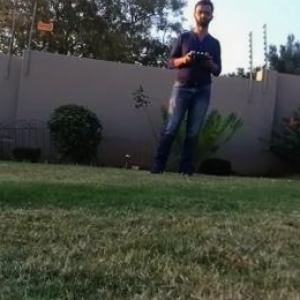follow: (143, 0, 225, 180)
